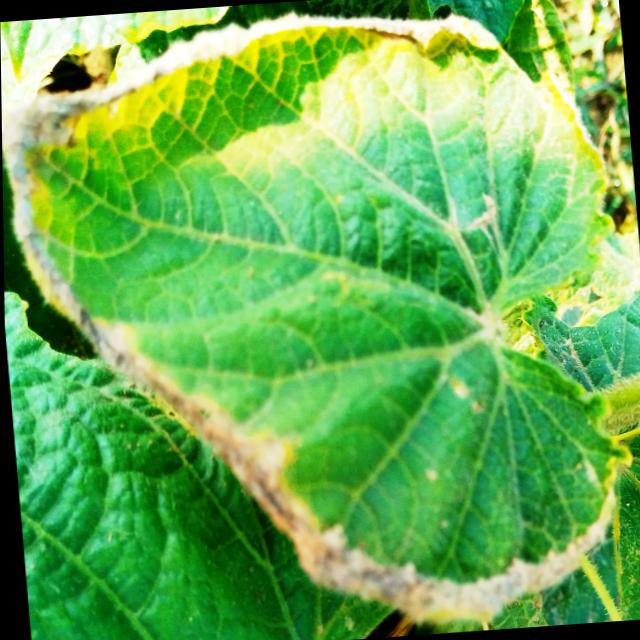Gummy-Stem-Blight: (2, 9, 620, 630)
